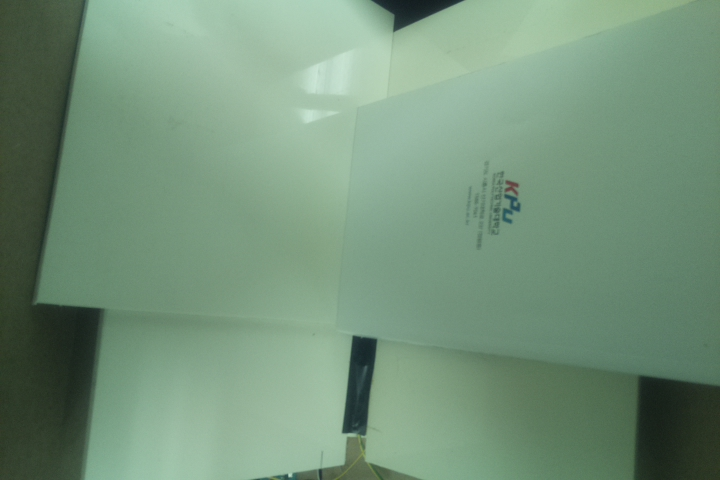book: (336, 1, 720, 393)
